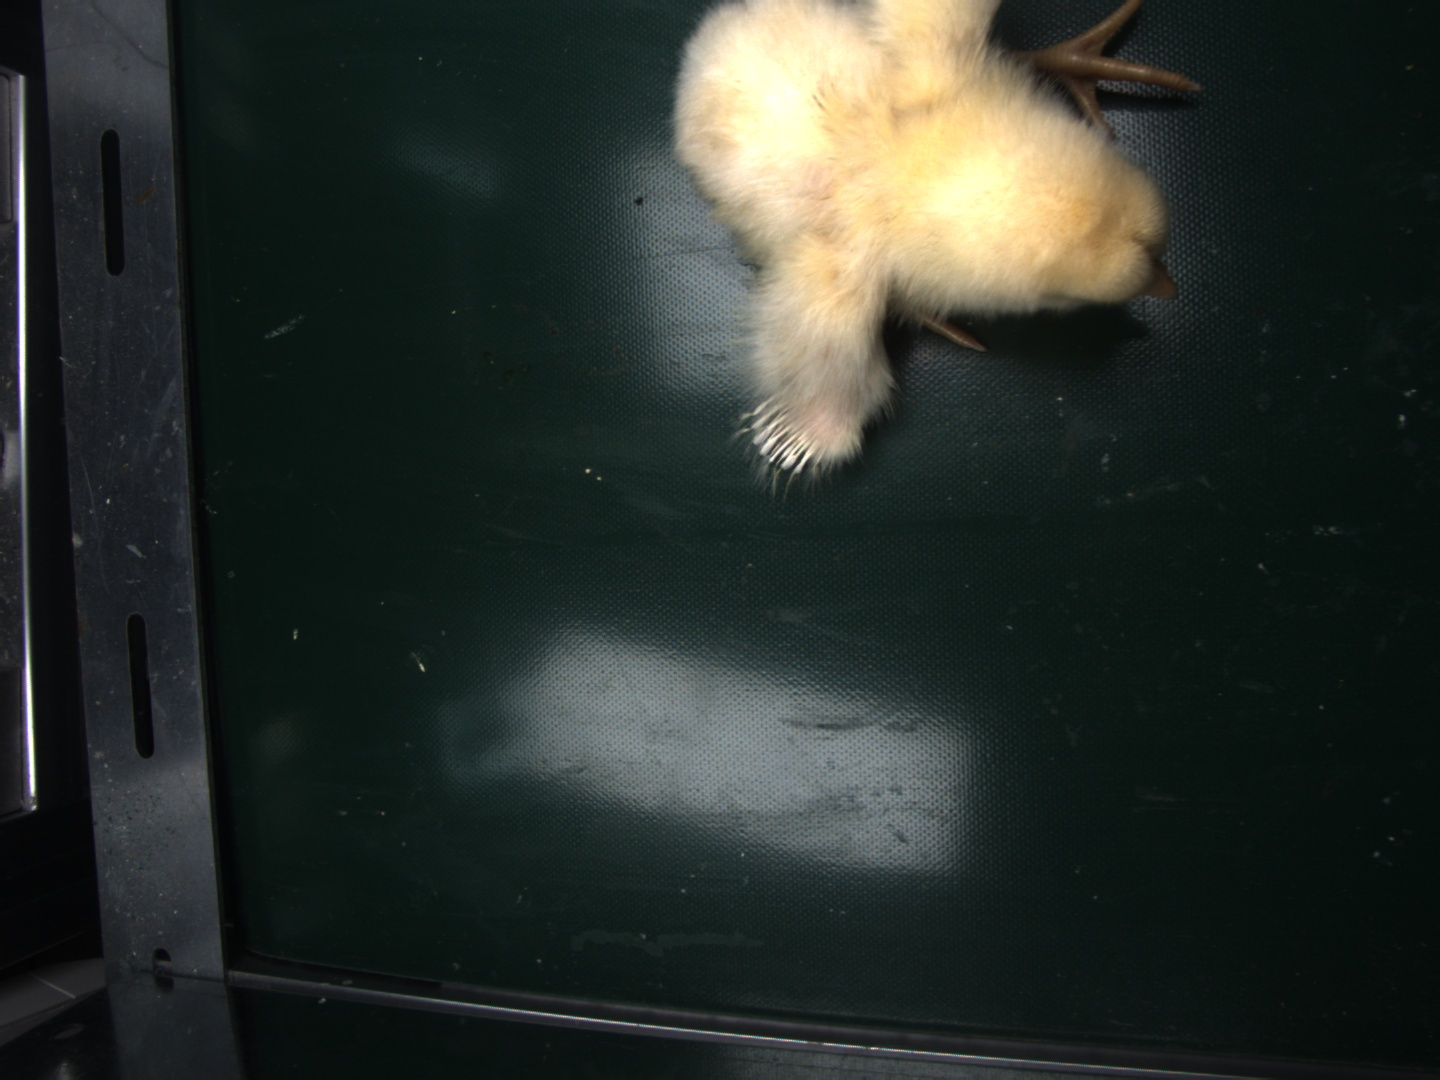male: (751, 400, 821, 475)
